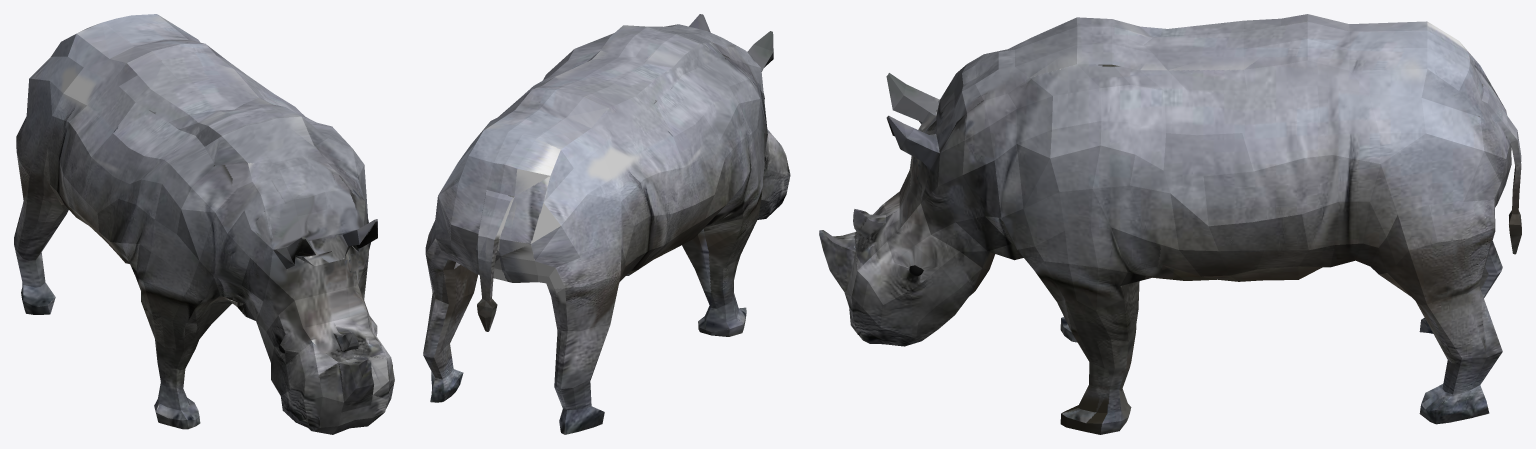
The model's file is rhino.fbx.
The picture shows the model from 3 angles, left to right: view 1: azimuth 30°, elevation 25°; view 2: azimuth 150°, elevation 25°; view 3: azimuth 270°, elevation 25°; orthographic projection. The views are drawn at different scales.
Parts seen in each view (by area): view 1: Plane; view 2: Plane; view 3: Plane.
Part boxes in pixels (box(x1,y1,x2,y2)): Plane: box(14, 14, 394, 434); Plane: box(423, 14, 790, 434); Plane: box(819, 14, 1521, 434).
Bounding box in the file's own units: 305 × 376 × 685.
Materials: 3 (1 with a texture image).
